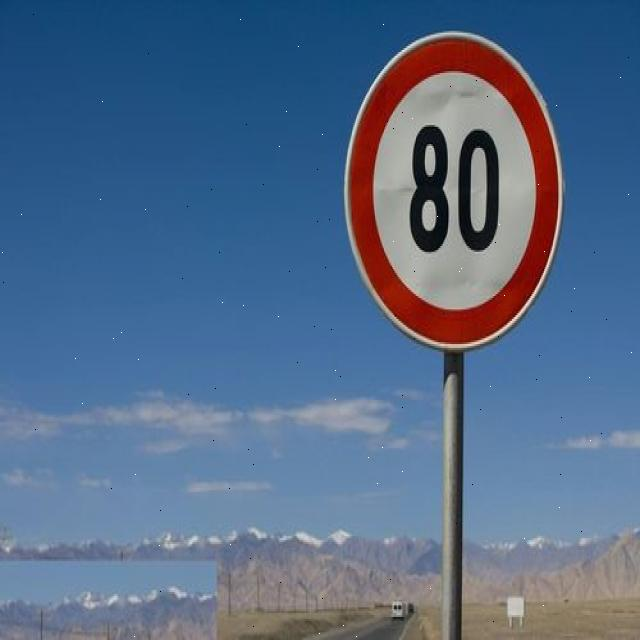speed limit 80: (343, 33, 562, 353)
